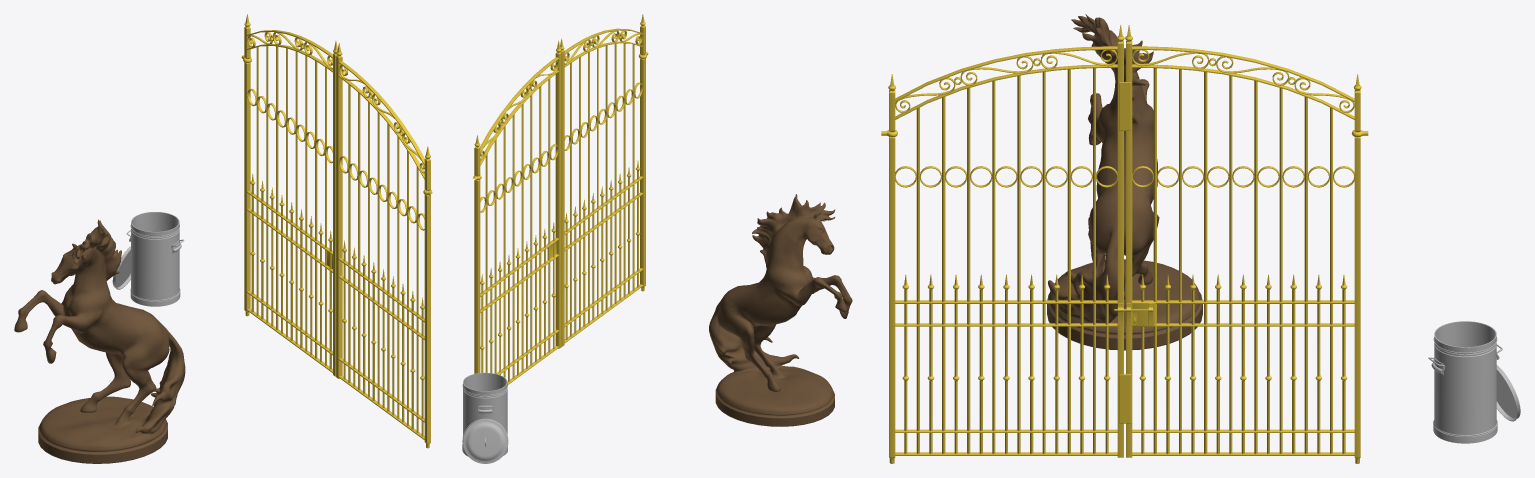
3 renders of one model, left to right at view 1: azimuth 30°, elevation 25°; view 2: azimuth 150°, elevation 25°; view 3: azimuth 270°, elevation 25°, orthographic. The views are drawn at different scales.
Visible parts, largest first — view 1: horse_statue_01, large_iron_gate_left_door, large_iron_gate_right_door, metal_trash_can, metal_trash_can_lid; view 2: horse_statue_01, large_iron_gate_right_door, large_iron_gate_left_door, metal_trash_can, metal_trash_can_lid; view 3: large_iron_gate_right_door, large_iron_gate_left_door, horse_statue_01, metal_trash_can, metal_trash_can_lid.
Boxes of the visible parts, box(x1,y1,x2,y2) form: horse_statue_01: box(14, 219, 185, 463); large_iron_gate_left_door: box(336, 43, 430, 448); large_iron_gate_right_door: box(244, 14, 337, 376); metal_trash_can: box(129, 212, 181, 306); metal_trash_can_lid: box(112, 246, 130, 289); horse_statue_01: box(709, 194, 852, 426); large_iron_gate_right_door: box(474, 40, 561, 384); large_iron_gate_left_door: box(560, 14, 645, 346); metal_trash_can: box(462, 372, 507, 456); metal_trash_can_lid: box(462, 418, 508, 463); large_iron_gate_right_door: box(1119, 25, 1361, 463); large_iron_gate_left_door: box(888, 25, 1124, 463); horse_statue_01: box(1047, 14, 1202, 350); metal_trash_can: box(1431, 321, 1499, 443); metal_trash_can_lid: box(1496, 365, 1520, 421).
Size of the model in its own units: 4.15 by 4.15 by 5.49.
